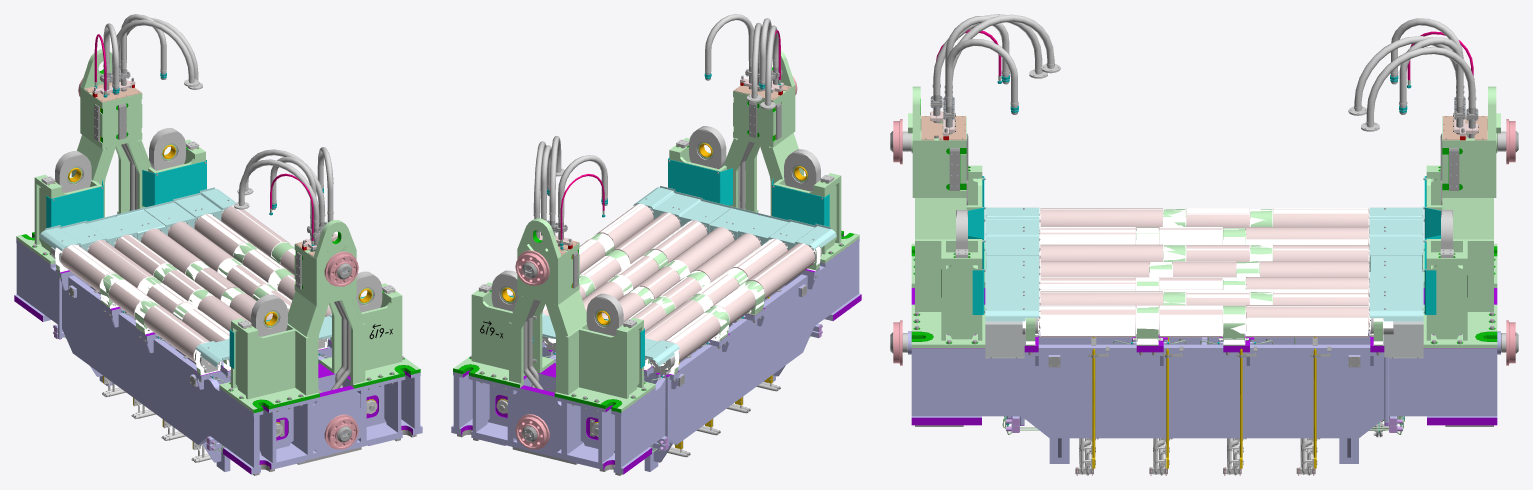
Rendered from SEGMENT_6_9_FIXED_SIDE_FRAME.glb.
3 views of the same model, side by side, from view 1: azimuth 30°, elevation 25°; view 2: azimuth 150°, elevation 25°; view 3: azimuth 270°, elevation 25° (orthographic). The views are drawn at different scales.
Parts seen in each view (by area): view 1: Model, ROLLSET_7, ROLLER_7_1, ROLLSET_6, ROLLER_3_3, ROLLSET_2, ROLLER_1_3, ROLLER_6_3, ROLLER_7_3, ROLLSET_3, ROLLSET_5, ROLLER_2_3 (+2 smaller); view 2: Model, ROLLSET_7, ROLLER_7_1, ROLLSET_6, ROLLER_2_1, ROLLSET_3, ROLLER_7_3, ROLLER_6_3, ROLLSET_1, ROLLER_3_1, ROLLSET_2, ROLLSET_5 (+2 smaller); view 3: Model, ROLLSET_1, ROLLSET_6, ROLLSET_3, ROLLER_7_1, ROLLSET_7, ROLLER_6_3, ROLLER_3_3, ROLLER_2_1, ROLLSET_2, ROLLER_7_3, ROLLER_1_3 (+4 smaller).
Part boxes in pixels (x1,y1,x2,y2): Model: (14, 14, 422, 475); ROLLSET_7: (52, 244, 221, 375); ROLLER_7_1: (144, 305, 209, 362); ROLLSET_6: (87, 240, 230, 370); ROLLER_3_3: (168, 221, 236, 271); ROLLSET_2: (198, 214, 329, 306); ROLLER_1_3: (223, 205, 289, 257); ROLLER_6_3: (88, 240, 156, 287); ROLLER_7_3: (61, 244, 119, 292); ROLLSET_3: (168, 222, 328, 349); ROLLSET_5: (114, 235, 213, 308); ROLLER_2_3: (194, 214, 252, 256); Model: (451, 14, 861, 475); ROLLSET_7: (651, 243, 820, 374); ROLLER_7_1: (746, 243, 814, 299); ROLLSET_6: (644, 239, 787, 370); ROLLER_2_1: (612, 212, 680, 263); ROLLSET_3: (543, 220, 707, 344); ROLLER_7_3: (665, 312, 719, 362); ROLLER_6_3: (645, 300, 703, 340); ROLLSET_1: (579, 204, 653, 254); ROLLER_3_1: (648, 223, 707, 263); ROLLSET_2: (543, 213, 679, 310); ROLLSET_5: (628, 238, 760, 319); Model: (890, 14, 1518, 475); ROLLSET_1: (1022, 305, 1393, 345); ROLLSET_6: (1039, 227, 1369, 250); ROLLSET_3: (1039, 277, 1384, 297); ROLLER_7_1: (1039, 208, 1162, 231); ROLLSET_7: (1039, 208, 1369, 232); ROLLER_6_3: (1246, 227, 1369, 246); ROLLER_3_3: (1246, 277, 1369, 297); ROLLER_2_1: (1039, 291, 1162, 305); ROLLSET_2: (1039, 291, 1369, 310); ROLLER_7_3: (1273, 208, 1369, 227); ROLLER_1_3: (1246, 305, 1370, 336).
Bounding box in the file's own units: 2.3 × 3.8 × 5.37.
